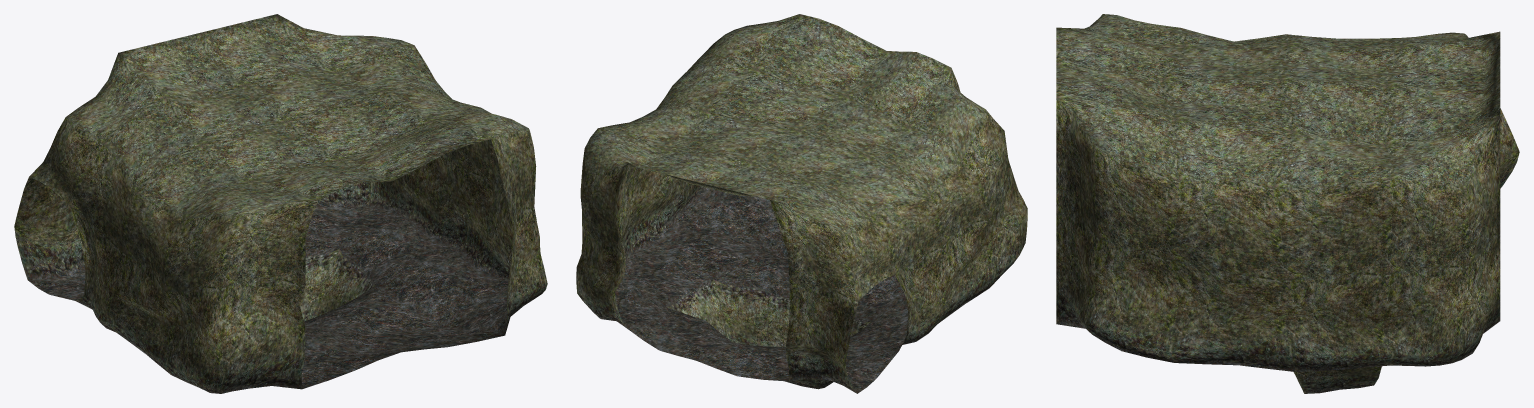
File: thm_all_cave_s02_damprock_r4_mesh_r4.fbx
3 views of the same model, side by side, from view 1: azimuth 30°, elevation 25°; view 2: azimuth 150°, elevation 25°; view 3: azimuth 270°, elevation 25° (orthographic). The views are drawn at different scales.
Visible parts, largest first — view 1: mesh_node; view 2: mesh_node; view 3: mesh_node.
Boxes of the visible parts, x1,y1,x2,y2 form: mesh_node: (14, 14, 547, 393); mesh_node: (576, 14, 1027, 393); mesh_node: (1056, 14, 1519, 393).
Size of the model in its own units: 41.59 by 32.46 by 42.46.
